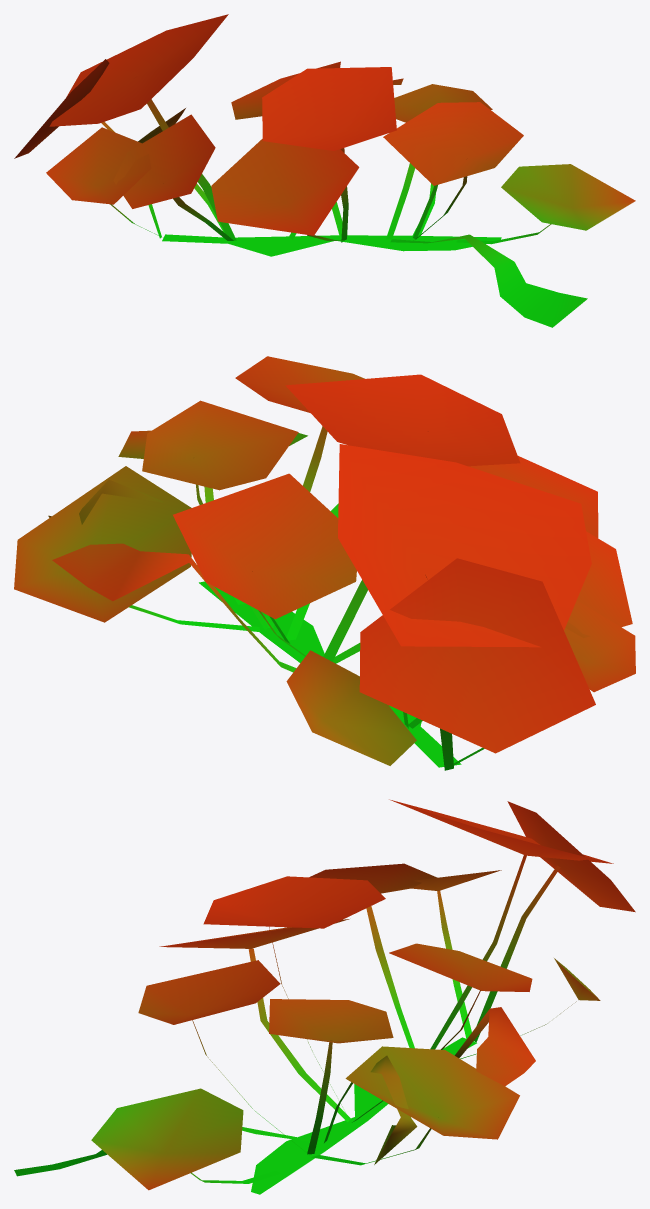
The model's file is Var7_LOD1.fbx.
3 views of the same model, one above another, from view 1: azimuth 30°, elevation 25°; view 2: azimuth 150°, elevation 25°; view 3: azimuth 270°, elevation 25° (orthographic). The views are drawn at different scales.
Parts seen in each view (by area): view 1: _112c_Var7_LOD1; view 2: _112c_Var7_LOD1; view 3: _112c_Var7_LOD1.
Part boxes in pixels (box(x1,y1,x2,y2)): _112c_Var7_LOD1: box(14, 14, 635, 327); _112c_Var7_LOD1: box(14, 356, 635, 770); _112c_Var7_LOD1: box(14, 799, 635, 1194).
Bounding box in the file's own units: 36.46 × 15.73 × 33.66.
